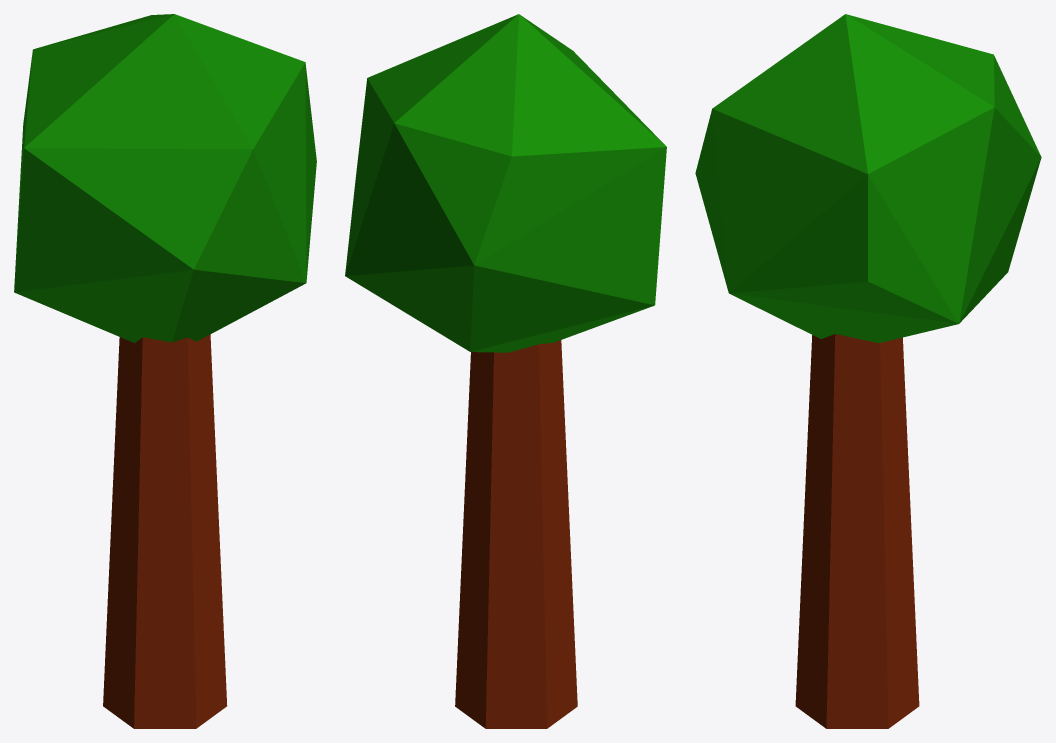
Rendered from tree_03.fbx.
The picture shows the model from 3 angles, left to right: view 1: azimuth 30°, elevation 25°; view 2: azimuth 150°, elevation 25°; view 3: azimuth 270°, elevation 25°; orthographic projection.
Visible parts, largest first — view 1: Icosphere; view 2: Icosphere; view 3: Icosphere.
Boxes of the visible parts, bbox=[...] form: Icosphere: bbox=[14, 14, 316, 728]; Icosphere: bbox=[345, 14, 666, 728]; Icosphere: bbox=[695, 14, 1041, 728].
Bounding box in the file's own units: 283 × 618 × 279.
